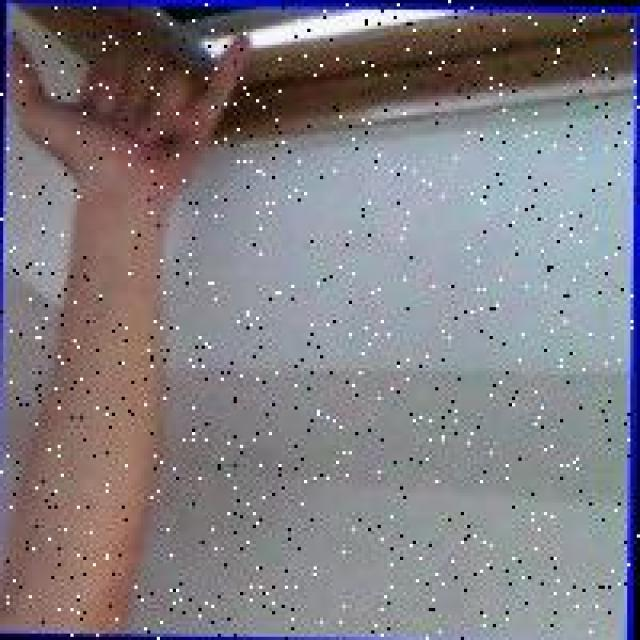Y: (4, 19, 258, 189)
